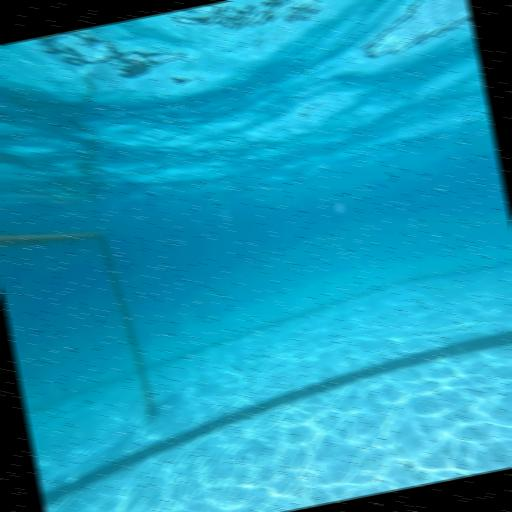gate: (0, 203, 189, 492)
